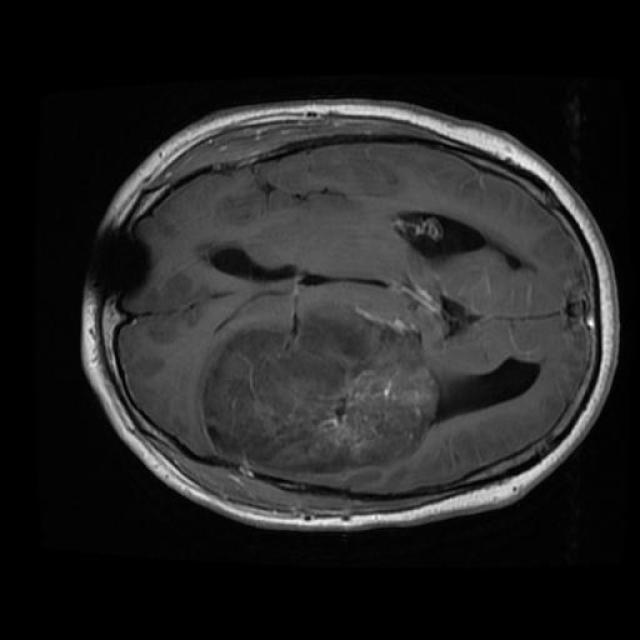Glioma: (204, 302, 438, 477)
